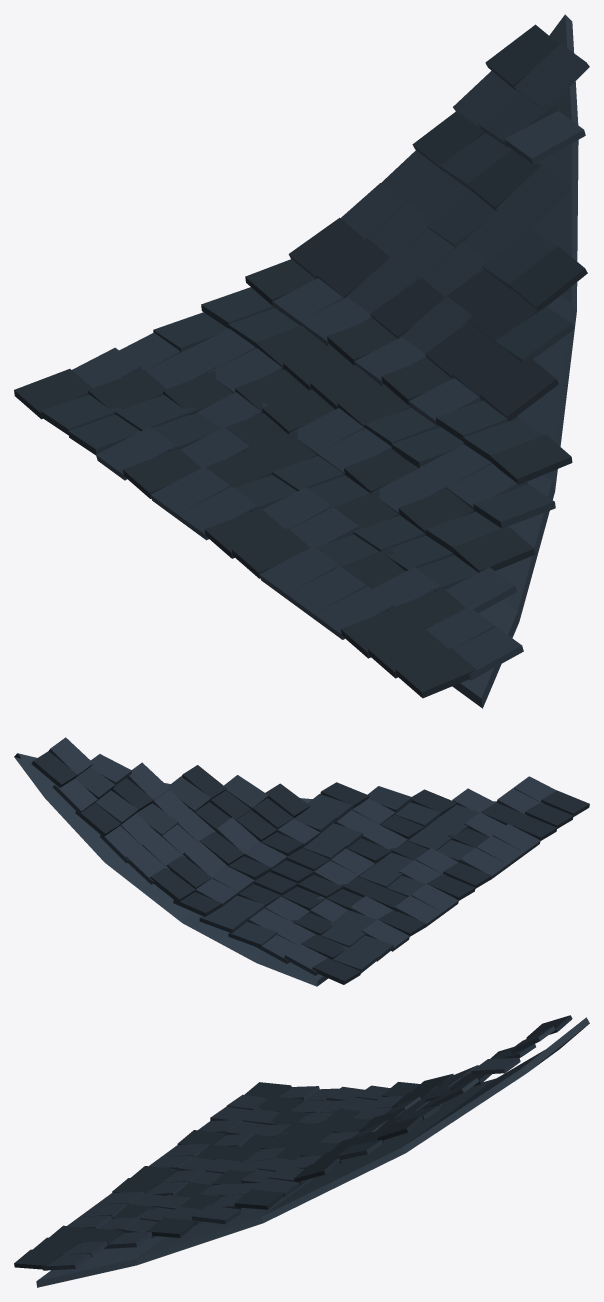
Rendered from Roof_Tile05_JP.fbx.
3 views of the same model, one above another, from view 1: azimuth 30°, elevation 25°; view 2: azimuth 150°, elevation 25°; view 3: azimuth 330°, elevation 25° (orthographic). The views are drawn at different scales.
Parts seen in each view (by area): view 1: Roof_Tile05_JP_LOD0; view 2: Roof_Tile05_JP_LOD0; view 3: Roof_Tile05_JP_LOD0.
Boxes of the visible parts, x1,y1,x2,y2 form: Roof_Tile05_JP_LOD0: (14,14,589,708); Roof_Tile05_JP_LOD0: (14,737,589,986); Roof_Tile05_JP_LOD0: (14,1015,589,1287).
Size of what is drawn, in the model's own units: 514 by 237 by 673.
